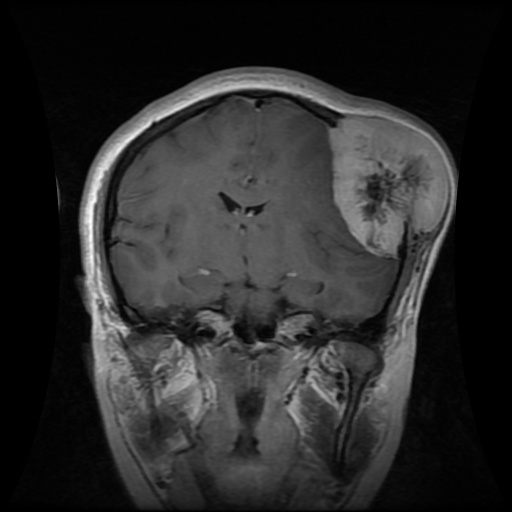meningioma: (329, 116, 445, 259)
